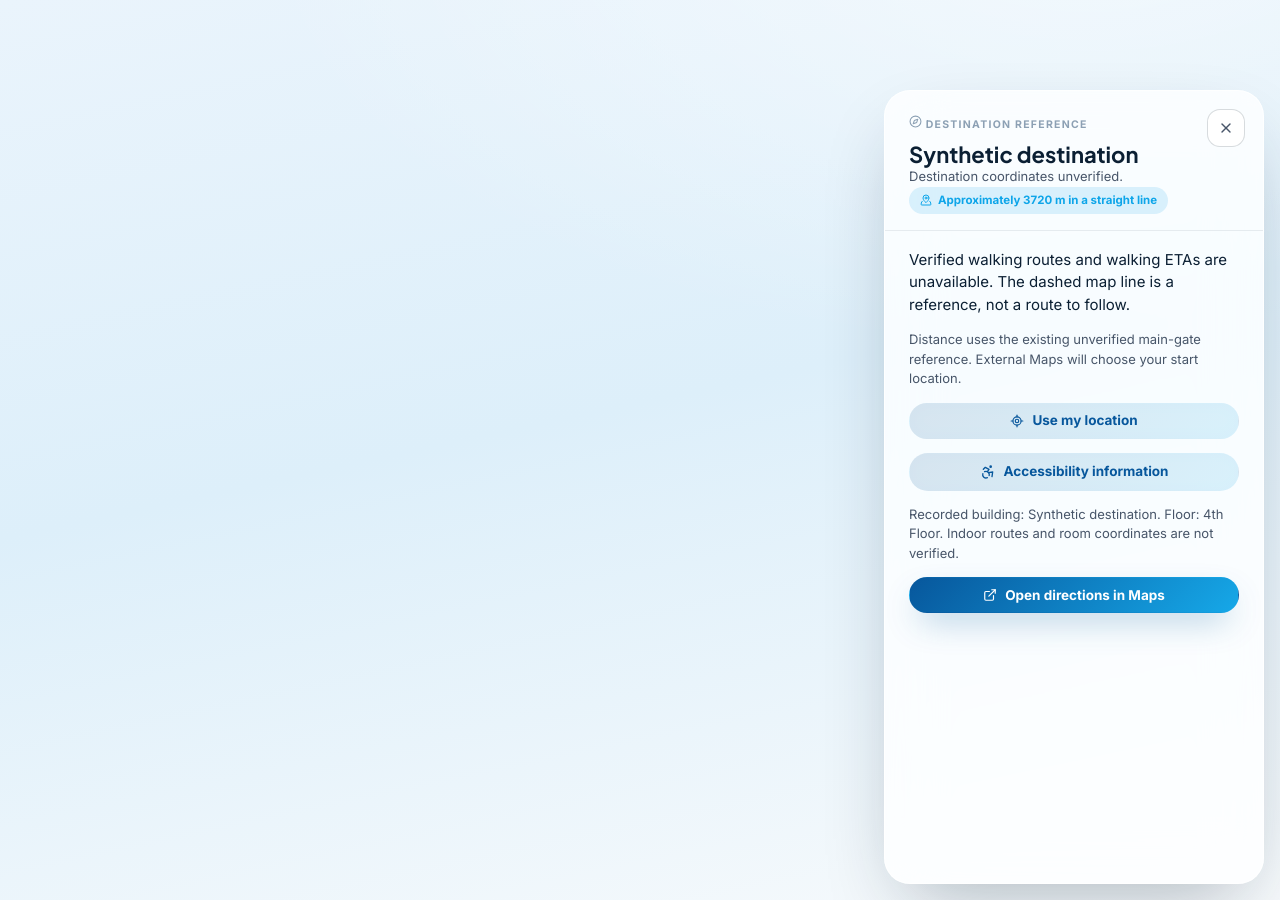
GPS accuracy is exposed and no room-level accuracy is claimed
Click the button "Use my location" at (1074, 421), box [909,403,1239,439]
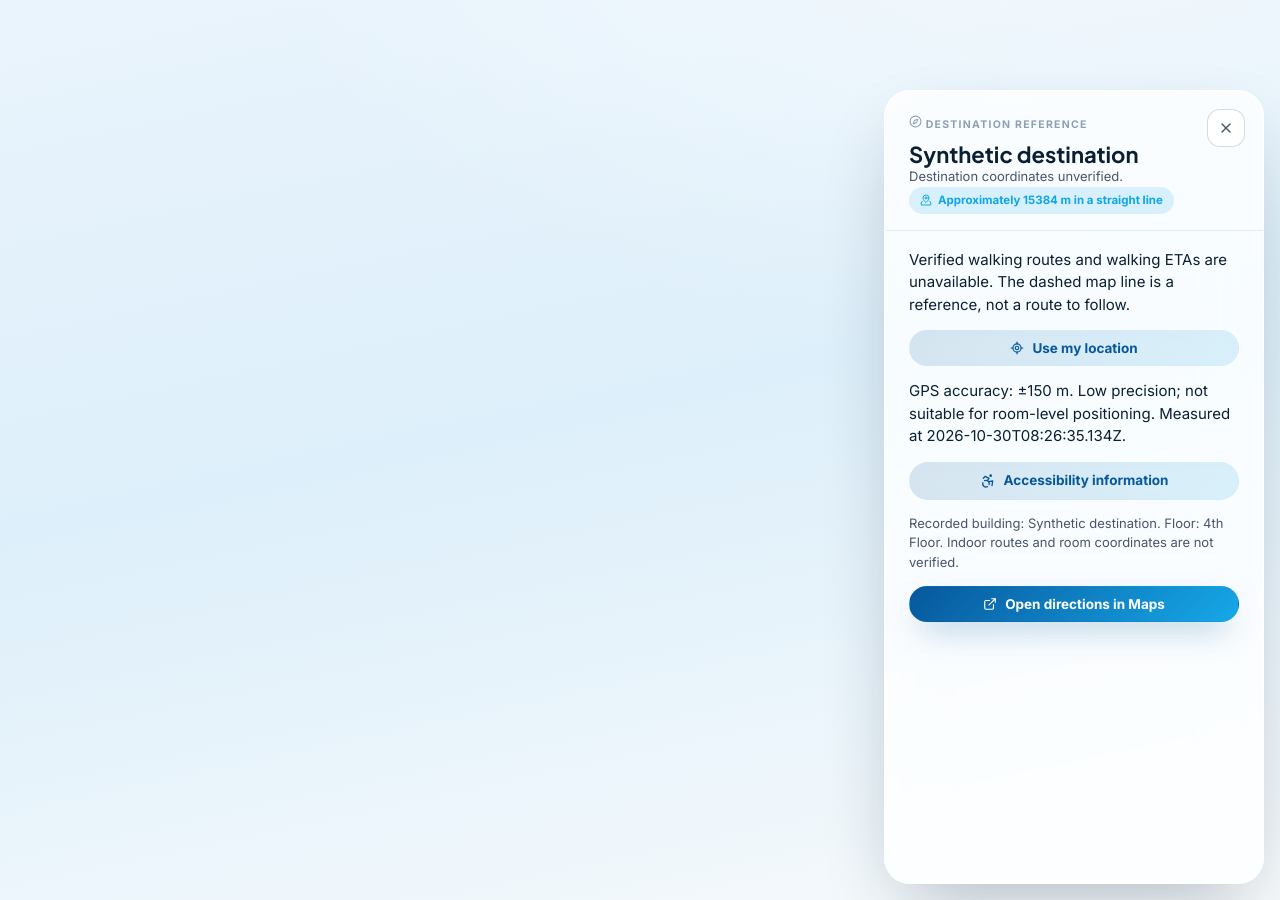
Now the message shows "±150 m", box [1017,381,1069,400]
Now the message shows "Low precision", box [909,381,1208,423]
